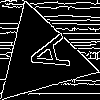A: (16, 32, 71, 78)
